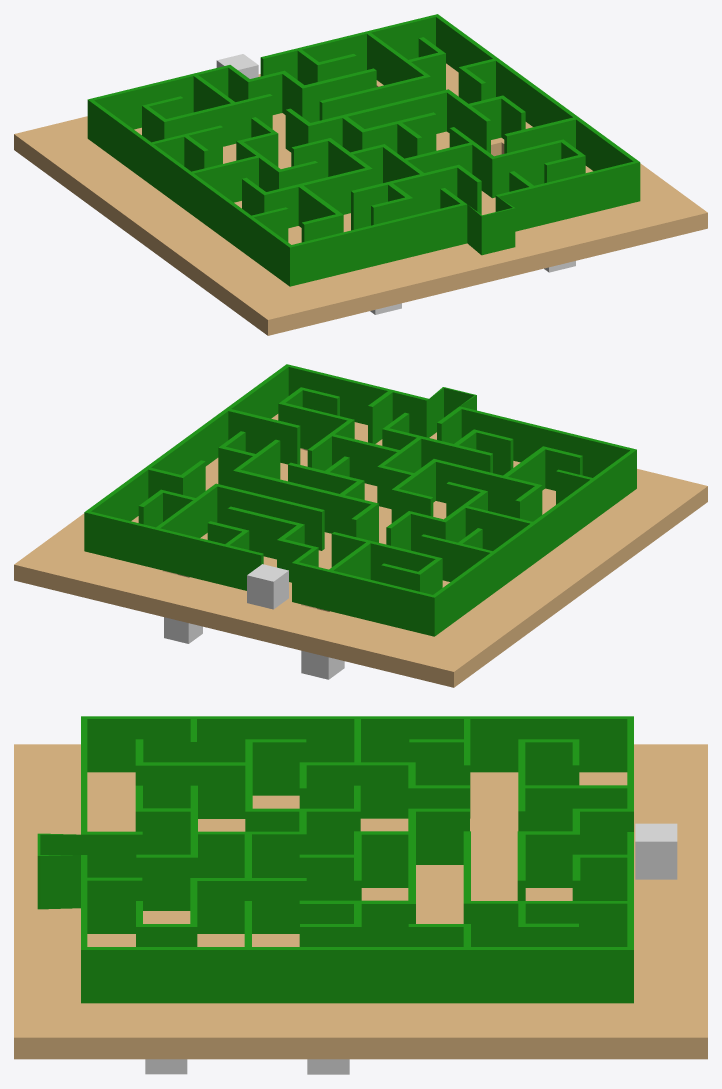
Rendered from mazelevel2.fbx.
The picture shows the model from 3 angles, top to bottom: view 1: azimuth 30°, elevation 25°; view 2: azimuth 150°, elevation 25°; view 3: azimuth 270°, elevation 25°; orthographic projection. The views are drawn at different scales.
Visible parts, largest first — view 1: Plane, Cube.001; view 2: Plane, Cube, Cube.001; view 3: Plane, Cube.001, Cube.
Part boxes in pixels (x1,y1,x2,y2): Plane: (14, 14, 707, 335); Cube.001: (216, 54, 258, 78); Plane: (14, 364, 707, 687); Cube: (164, 617, 344, 679); Cube.001: (247, 564, 288, 609); Plane: (14, 716, 707, 1059); Cube.001: (635, 823, 677, 879); Cube: (145, 1059, 349, 1074).
Size of the model in its own units: 1179 by 285 by 1179.
